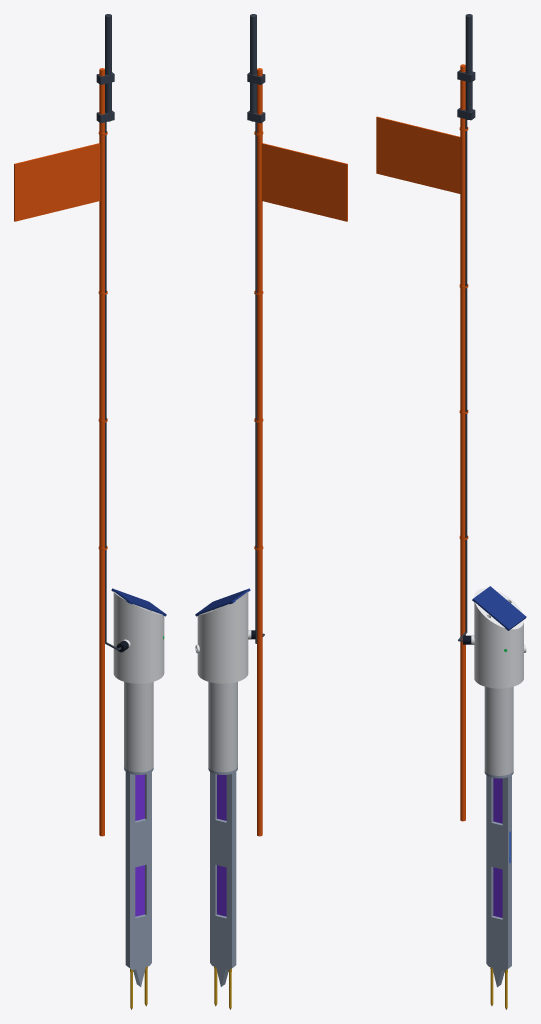
The picture shows the model from 3 angles, left to right: view 1: azimuth 30°, elevation 25°; view 2: azimuth 150°, elevation 25°; view 3: azimuth 330°, elevation 25°; orthographic projection.
Parts seen in each view (by area): view 1: Marker rod and flag, Sensor fin, two printed halves, Head body and cap, printed ASA, Stake tube, 40 mm PVC, Antenna on marker rod, with coax, Capacitive moisture probes (2), Solar panel, 0.5 W; view 2: Marker rod and flag, Sensor fin, two printed halves, Head body and cap, printed ASA, Stake tube, 40 mm PVC, Antenna on marker rod, with coax, Capacitive moisture probes (2), Solar panel, 0.5 W; view 3: Marker rod and flag, Sensor fin, two printed halves, Head body and cap, printed ASA, Stake tube, 40 mm PVC, Antenna on marker rod, with coax, Solar panel, 0.5 W, Capacitive moisture probes (2).
Boxes of the visible parts, box(x1,y1,x2,y2) form: Marker rod and flag: box(14, 68, 107, 836); Sensor fin, two printed halves: box(124, 767, 153, 986); Head body and cap, printed ASA: box(113, 591, 164, 683); Stake tube, 40 mm PVC: box(124, 682, 153, 772); Antenna on marker rod, with coax: box(96, 14, 121, 650); Capacitive moisture probes (2): box(135, 774, 144, 916); Solar panel, 0.5 W: box(111, 588, 166, 616); Marker rod and flag: box(254, 68, 347, 836); Sensor fin, two printed halves: box(208, 767, 237, 986); Head body and cap, printed ASA: box(195, 591, 251, 683); Stake tube, 40 mm PVC: box(208, 682, 237, 772); Antenna on marker rod, with coax: box(247, 14, 265, 643); Capacitive moisture probes (2): box(217, 774, 226, 916); Solar panel, 0.5 W: box(195, 588, 250, 616); Marker rod and flag: box(376, 64, 468, 821); Sensor fin, two printed halves: box(484, 771, 513, 987); Head body and cap, printed ASA: box(471, 588, 526, 688); Stake tube, 40 mm PVC: box(484, 686, 513, 775); Antenna on marker rod, with coax: box(457, 14, 475, 641); Solar panel, 0.5 W: box(472, 586, 526, 630); Capacitive moisture probes (2): box(493, 778, 502, 917).
Bounding box in the file's own units: 0.24 × 1.57 × 0.072.
